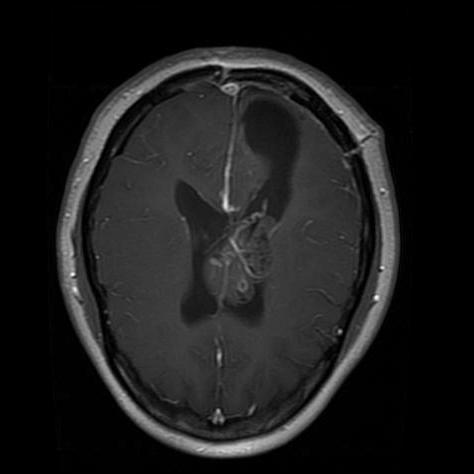Tumour-Glioma: (227, 199, 288, 280)
